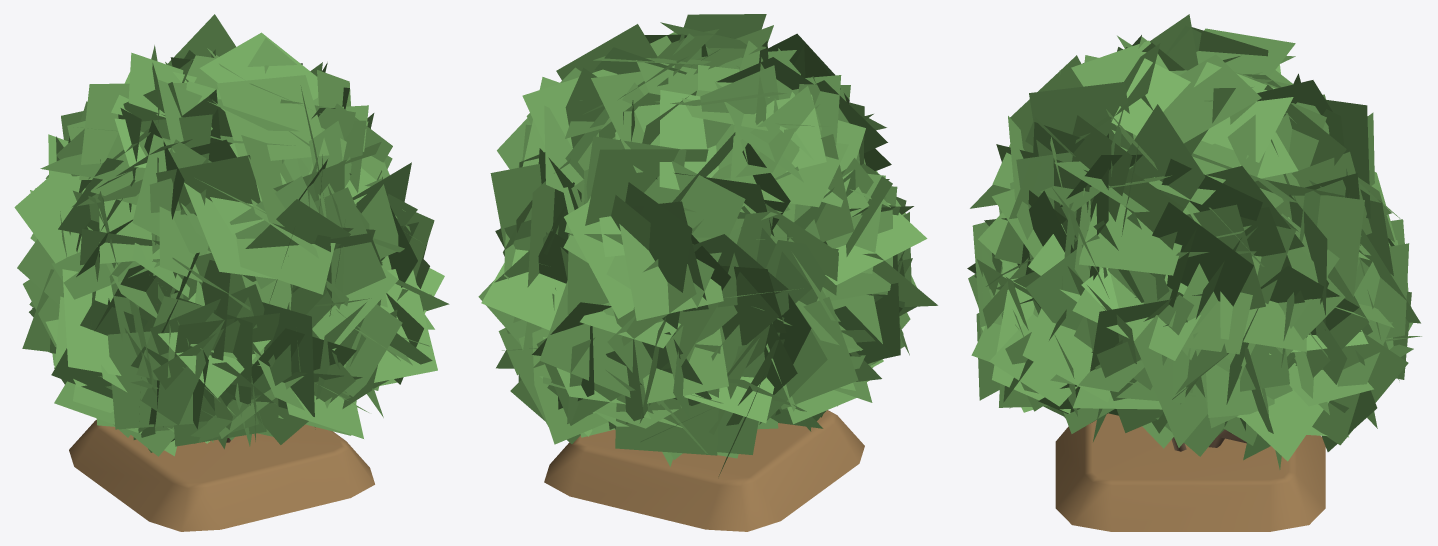
File: shrubHD.glb
The picture shows the model from 3 angles, left to right: view 1: azimuth 30°, elevation 25°; view 2: azimuth 150°, elevation 25°; view 3: azimuth 270°, elevation 25°; orthographic projection. The views are drawn at different scales.
Bounding box in the file's own units: 0.8792 × 0.9 × 0.8716.
